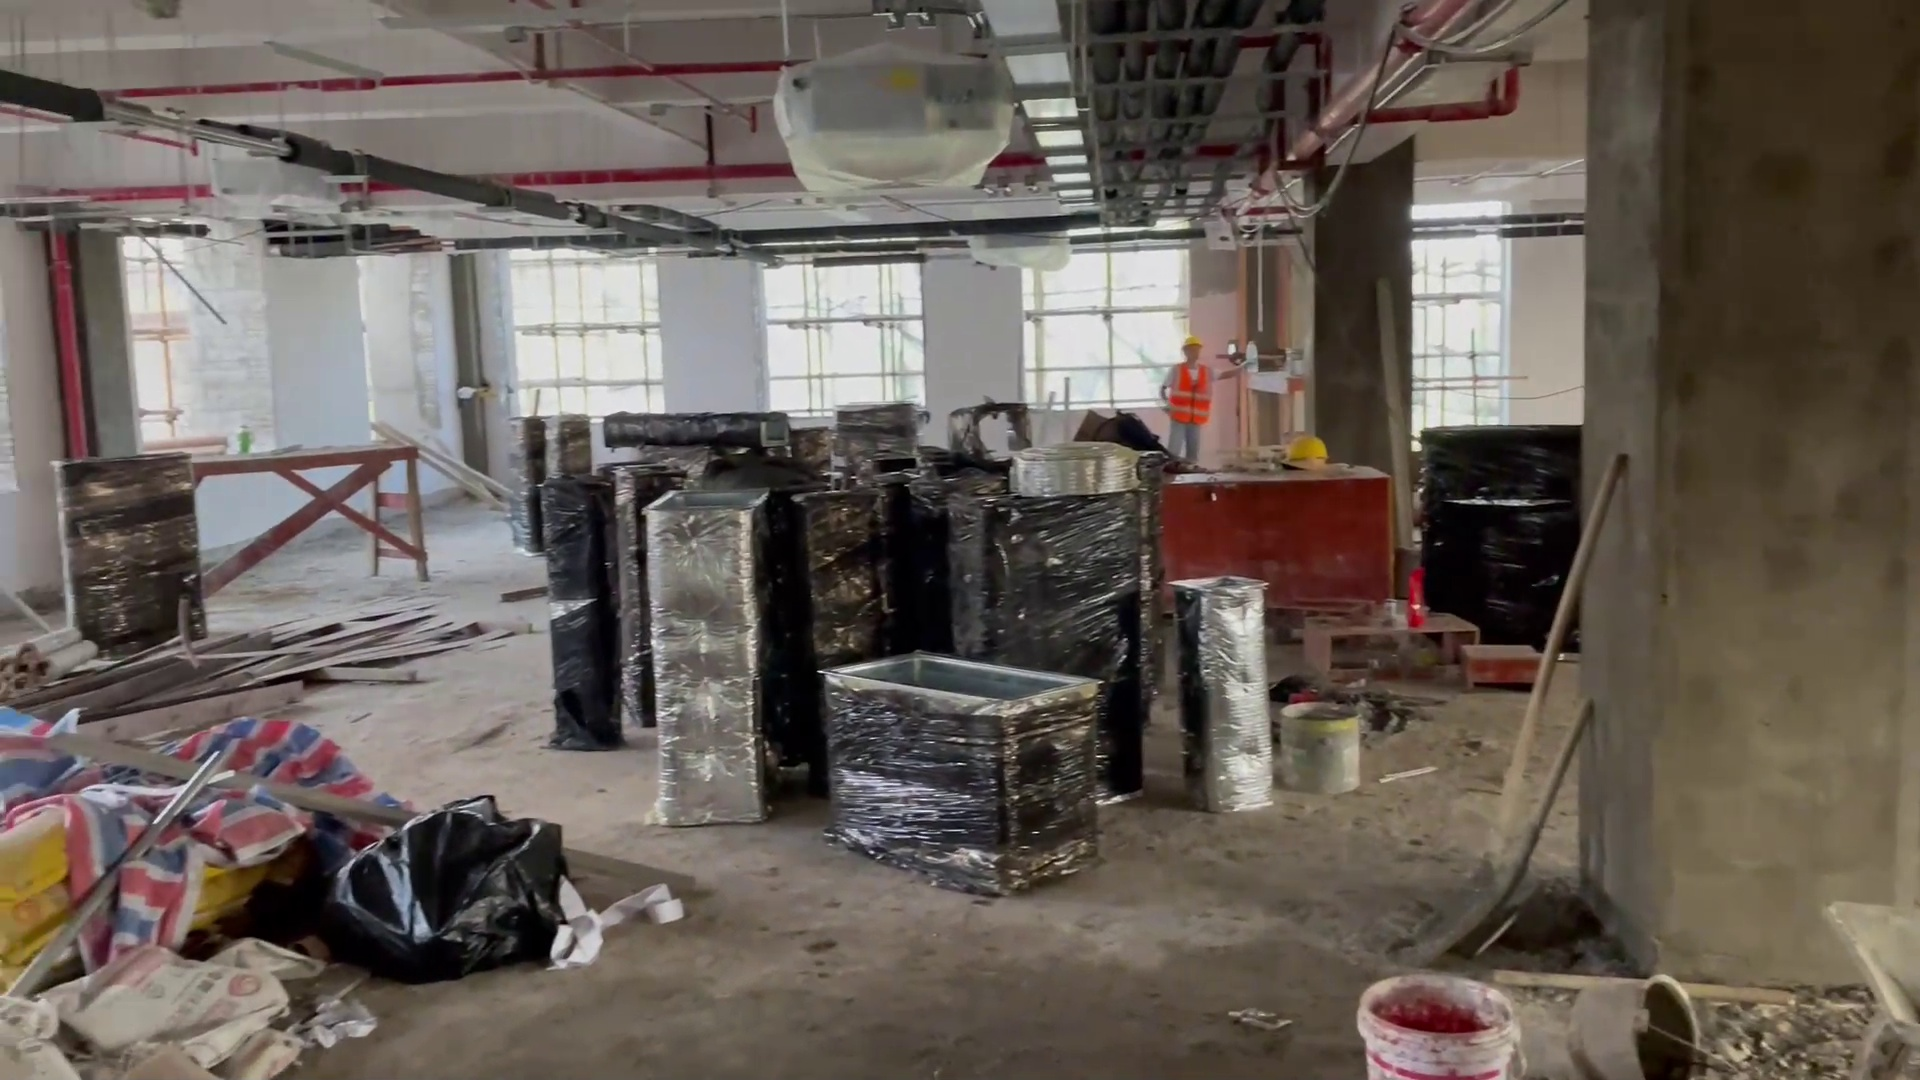helmet: (1277, 428, 1331, 470), (1180, 331, 1207, 351)
person: (1158, 330, 1222, 459)
vest: (1170, 363, 1224, 427)
